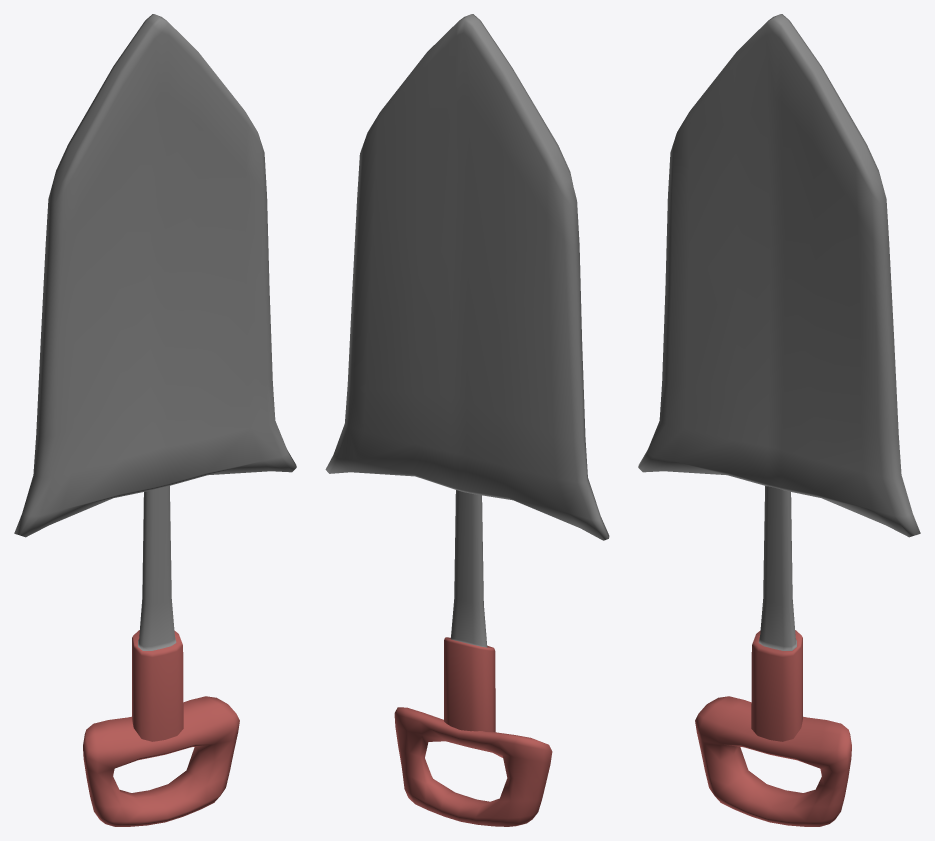
Rendered from Garden_Shovel.fbx.
The picture shows the model from 3 angles, left to right: view 1: azimuth 30°, elevation 25°; view 2: azimuth 150°, elevation 25°; view 3: azimuth 330°, elevation 25°; orthographic projection.
Visible parts, largest first — view 1: Garden_Shovel; view 2: Garden_Shovel; view 3: Garden_Shovel.
Part boxes in pixels (x1,y1,x2,y2): Garden_Shovel: (14,14,296,826); Garden_Shovel: (325,14,609,826); Garden_Shovel: (638,14,920,826).
Bounding box in the file's own units: 14.56 × 39.49 × 2.01.
